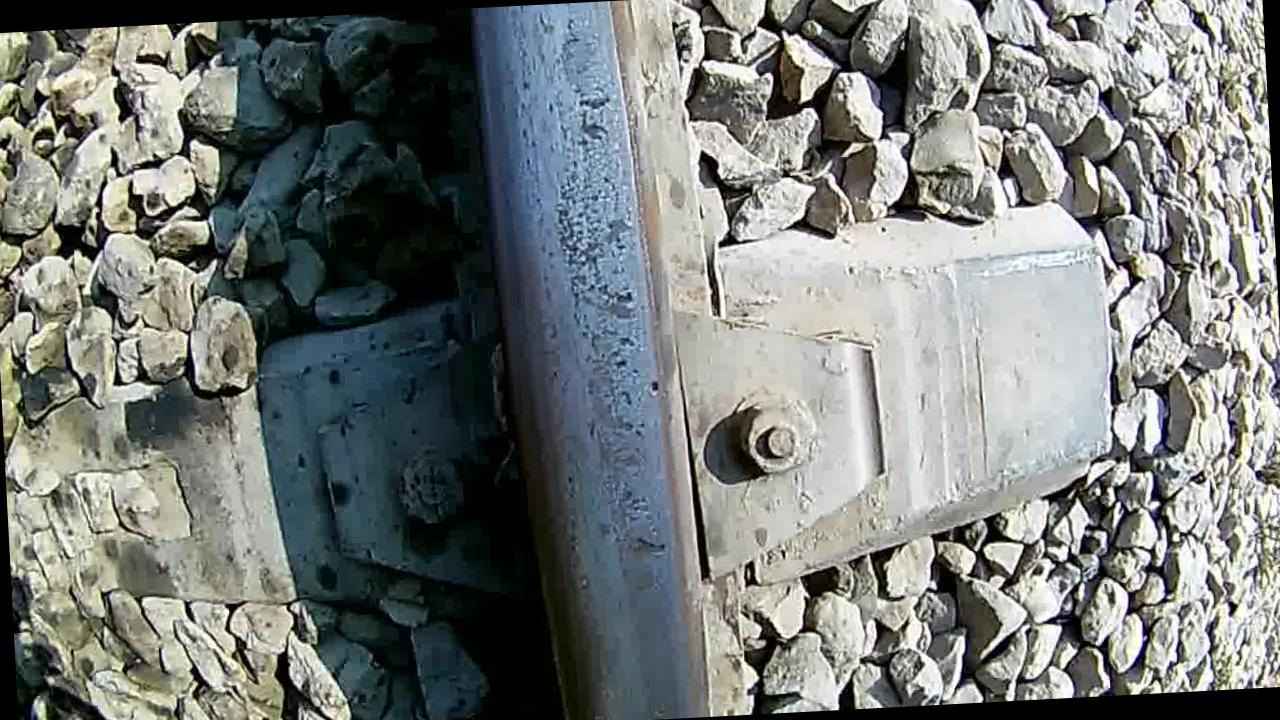crack: (478, 0, 704, 720)
